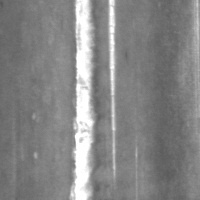scratches: (67, 1, 101, 200), (106, 1, 118, 189)
